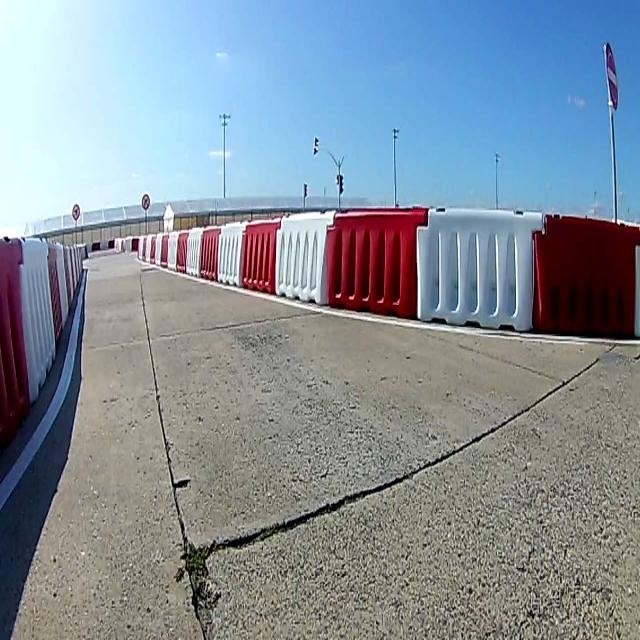girisyok: (600, 39, 620, 113)
